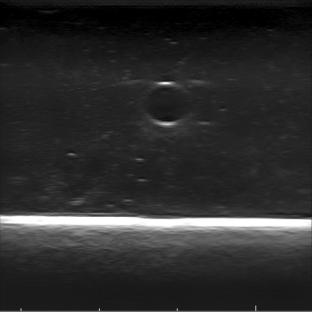vessel: (140, 80, 197, 128)
